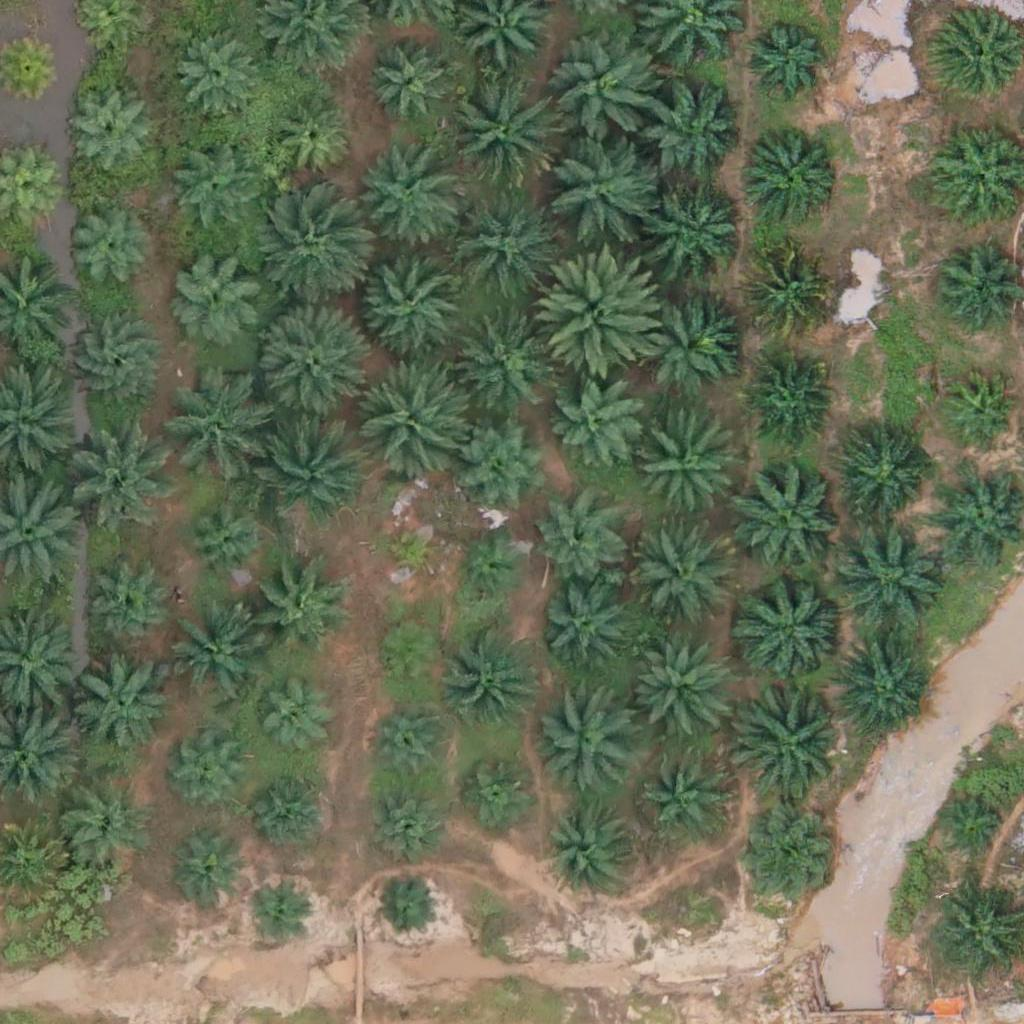Kelapa_Sawit: (540, 251, 665, 377), (542, 129, 655, 243), (831, 517, 944, 630), (732, 461, 845, 574), (736, 572, 849, 685), (444, 77, 557, 190), (448, 189, 561, 302), (355, 244, 468, 357), (252, 305, 365, 418), (549, 35, 662, 148), (252, 407, 364, 521), (735, 684, 847, 797), (348, 145, 460, 258), (353, 362, 465, 475), (250, 196, 362, 309), (63, 413, 175, 526), (830, 638, 930, 739), (742, 122, 842, 223), (738, 811, 838, 912), (649, 181, 749, 282), (635, 418, 735, 519), (630, 530, 730, 631), (626, 638, 726, 739), (452, 310, 552, 411), (454, 411, 554, 512), (246, 559, 346, 660), (160, 608, 260, 709), (160, 380, 260, 481), (70, 656, 170, 757), (445, 625, 545, 726), (644, 88, 744, 188), (634, 288, 734, 388), (537, 690, 637, 790), (167, 246, 267, 346), (65, 314, 165, 414), (930, 240, 1018, 328), (841, 435, 929, 523), (741, 246, 829, 334), (534, 498, 622, 586), (359, 781, 447, 869), (267, 95, 355, 183), (181, 497, 269, 585), (62, 88, 150, 176), (740, 15, 828, 103), (367, 40, 455, 128), (537, 585, 624, 674), (167, 145, 254, 234), (744, 354, 831, 442), (644, 756, 731, 844), (546, 805, 633, 893), (552, 378, 639, 466), (369, 700, 456, 788), (64, 204, 151, 292), (86, 566, 173, 654), (63, 786, 150, 874), (174, 28, 261, 116), (252, 683, 327, 759), (254, 771, 329, 847), (453, 531, 528, 607), (942, 371, 1017, 447), (372, 618, 447, 694), (460, 753, 535, 828), (172, 738, 247, 813), (170, 838, 245, 913), (936, 795, 1011, 870), (243, 879, 306, 942), (376, 875, 438, 938), (379, 519, 441, 582)
